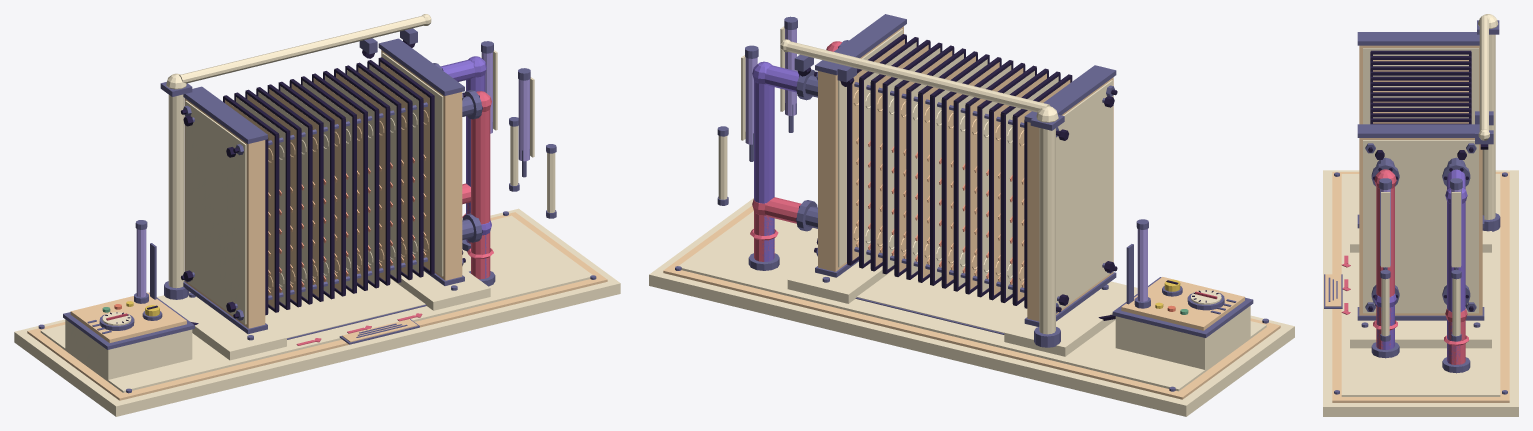
The model's file is echangeur.glb.
The picture shows the model from 3 angles, left to right: view 1: azimuth 30°, elevation 25°; view 2: azimuth 150°, elevation 25°; view 3: azimuth 270°, elevation 25°; orthographic projection. The views are drawn at different scales.
Visible parts, largest first — view 1: echangeur_cream, echangeur_peach, echangeur_dark, echangeur_steel, echangeur_rose, echangeur_lilac, echangeur_violet, echangeur_sand, echangeur_salmon; view 2: echangeur_cream, echangeur_peach, echangeur_dark, echangeur_steel, echangeur_violet, echangeur_lilac, echangeur_rose, echangeur_sand, echangeur_salmon; view 3: echangeur_cream, echangeur_peach, echangeur_steel, echangeur_dark, echangeur_rose, echangeur_violet, echangeur_lilac.
Boxes of the visible parts, x1,y1,x2,y2 form: echangeur_cream: [14, 14, 620, 416]; echangeur_peach: [27, 50, 607, 400]; echangeur_dark: [105, 40, 482, 324]; echangeur_steel: [38, 28, 596, 393]; echangeur_rose: [296, 91, 493, 345]; echangeur_lilac: [136, 52, 529, 297]; echangeur_violet: [440, 56, 491, 278]; echangeur_sand: [268, 154, 426, 295]; echangeur_salmon: [279, 157, 415, 292]; echangeur_cream: [649, 26, 1294, 416]; echangeur_peach: [663, 26, 1280, 399]; echangeur_dark: [796, 34, 1218, 320]; echangeur_steel: [675, 14, 1268, 391]; echangeur_violet: [752, 61, 798, 261]; echangeur_lilac: [745, 28, 1147, 301]; echangeur_rose: [750, 41, 841, 261]; echangeur_sand: [856, 137, 1024, 287]; echangeur_salmon: [868, 140, 1012, 284]; echangeur_cream: [1323, 14, 1518, 416]; echangeur_peach: [1325, 45, 1509, 402]; echangeur_steel: [1324, 20, 1507, 394]; echangeur_dark: [1368, 50, 1488, 311]; echangeur_rose: [1341, 169, 1468, 364]; echangeur_violet: [1374, 169, 1467, 364]; echangeur_lilac: [1380, 189, 1461, 267].
Bounding box in the file's own units: 3 × 1.39 × 1.05.
